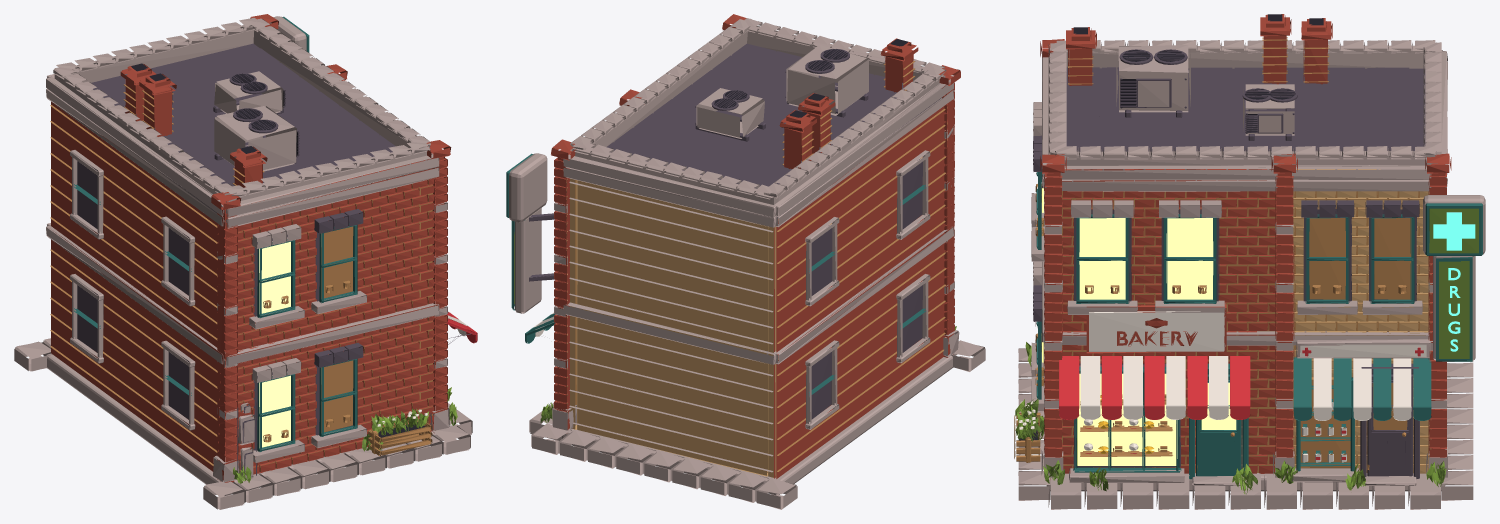
The model's file is bld.mainstreet-brick.lod2.glb.
The picture shows the model from 3 angles, left to right: view 1: azimuth 30°, elevation 25°; view 2: azimuth 150°, elevation 25°; view 3: azimuth 270°, elevation 25°; orthographic projection. The views are drawn at different scales.
Visible parts, largest first — view 1: body, roof; view 2: body, roof; view 3: body, roof, door_pharmacy, door_bakery.
Boxes of the visible parts, <box> form: body: <box>14,14,477,509</box>; roof: <box>53,18,430,212</box>; body: <box>506,14,985,509</box>; roof: <box>570,18,946,217</box>; body: <box>1014,39,1485,509</box>; roof: <box>1048,14,1441,169</box>; door_pharmacy: <box>1367,374,1412,476</box>; door_bakery: <box>1196,374,1241,476</box>.
Size of the model in its own units: 7.39 by 8.55 by 9.7.
